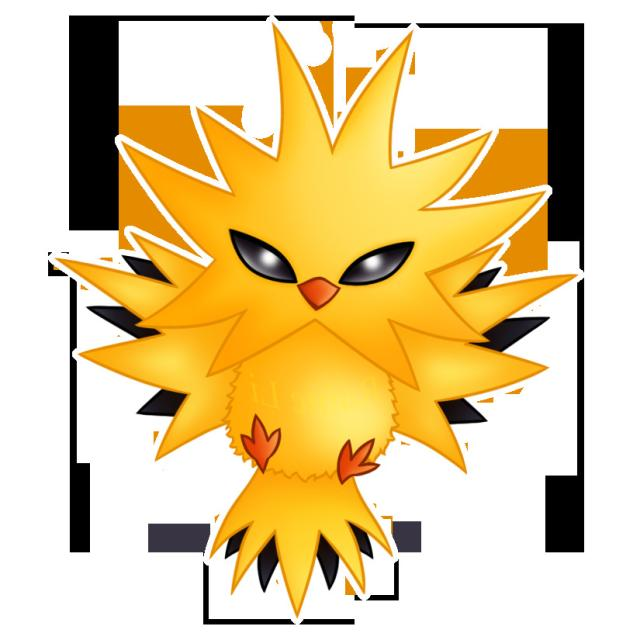Zapdos: (119, 114, 508, 598)
